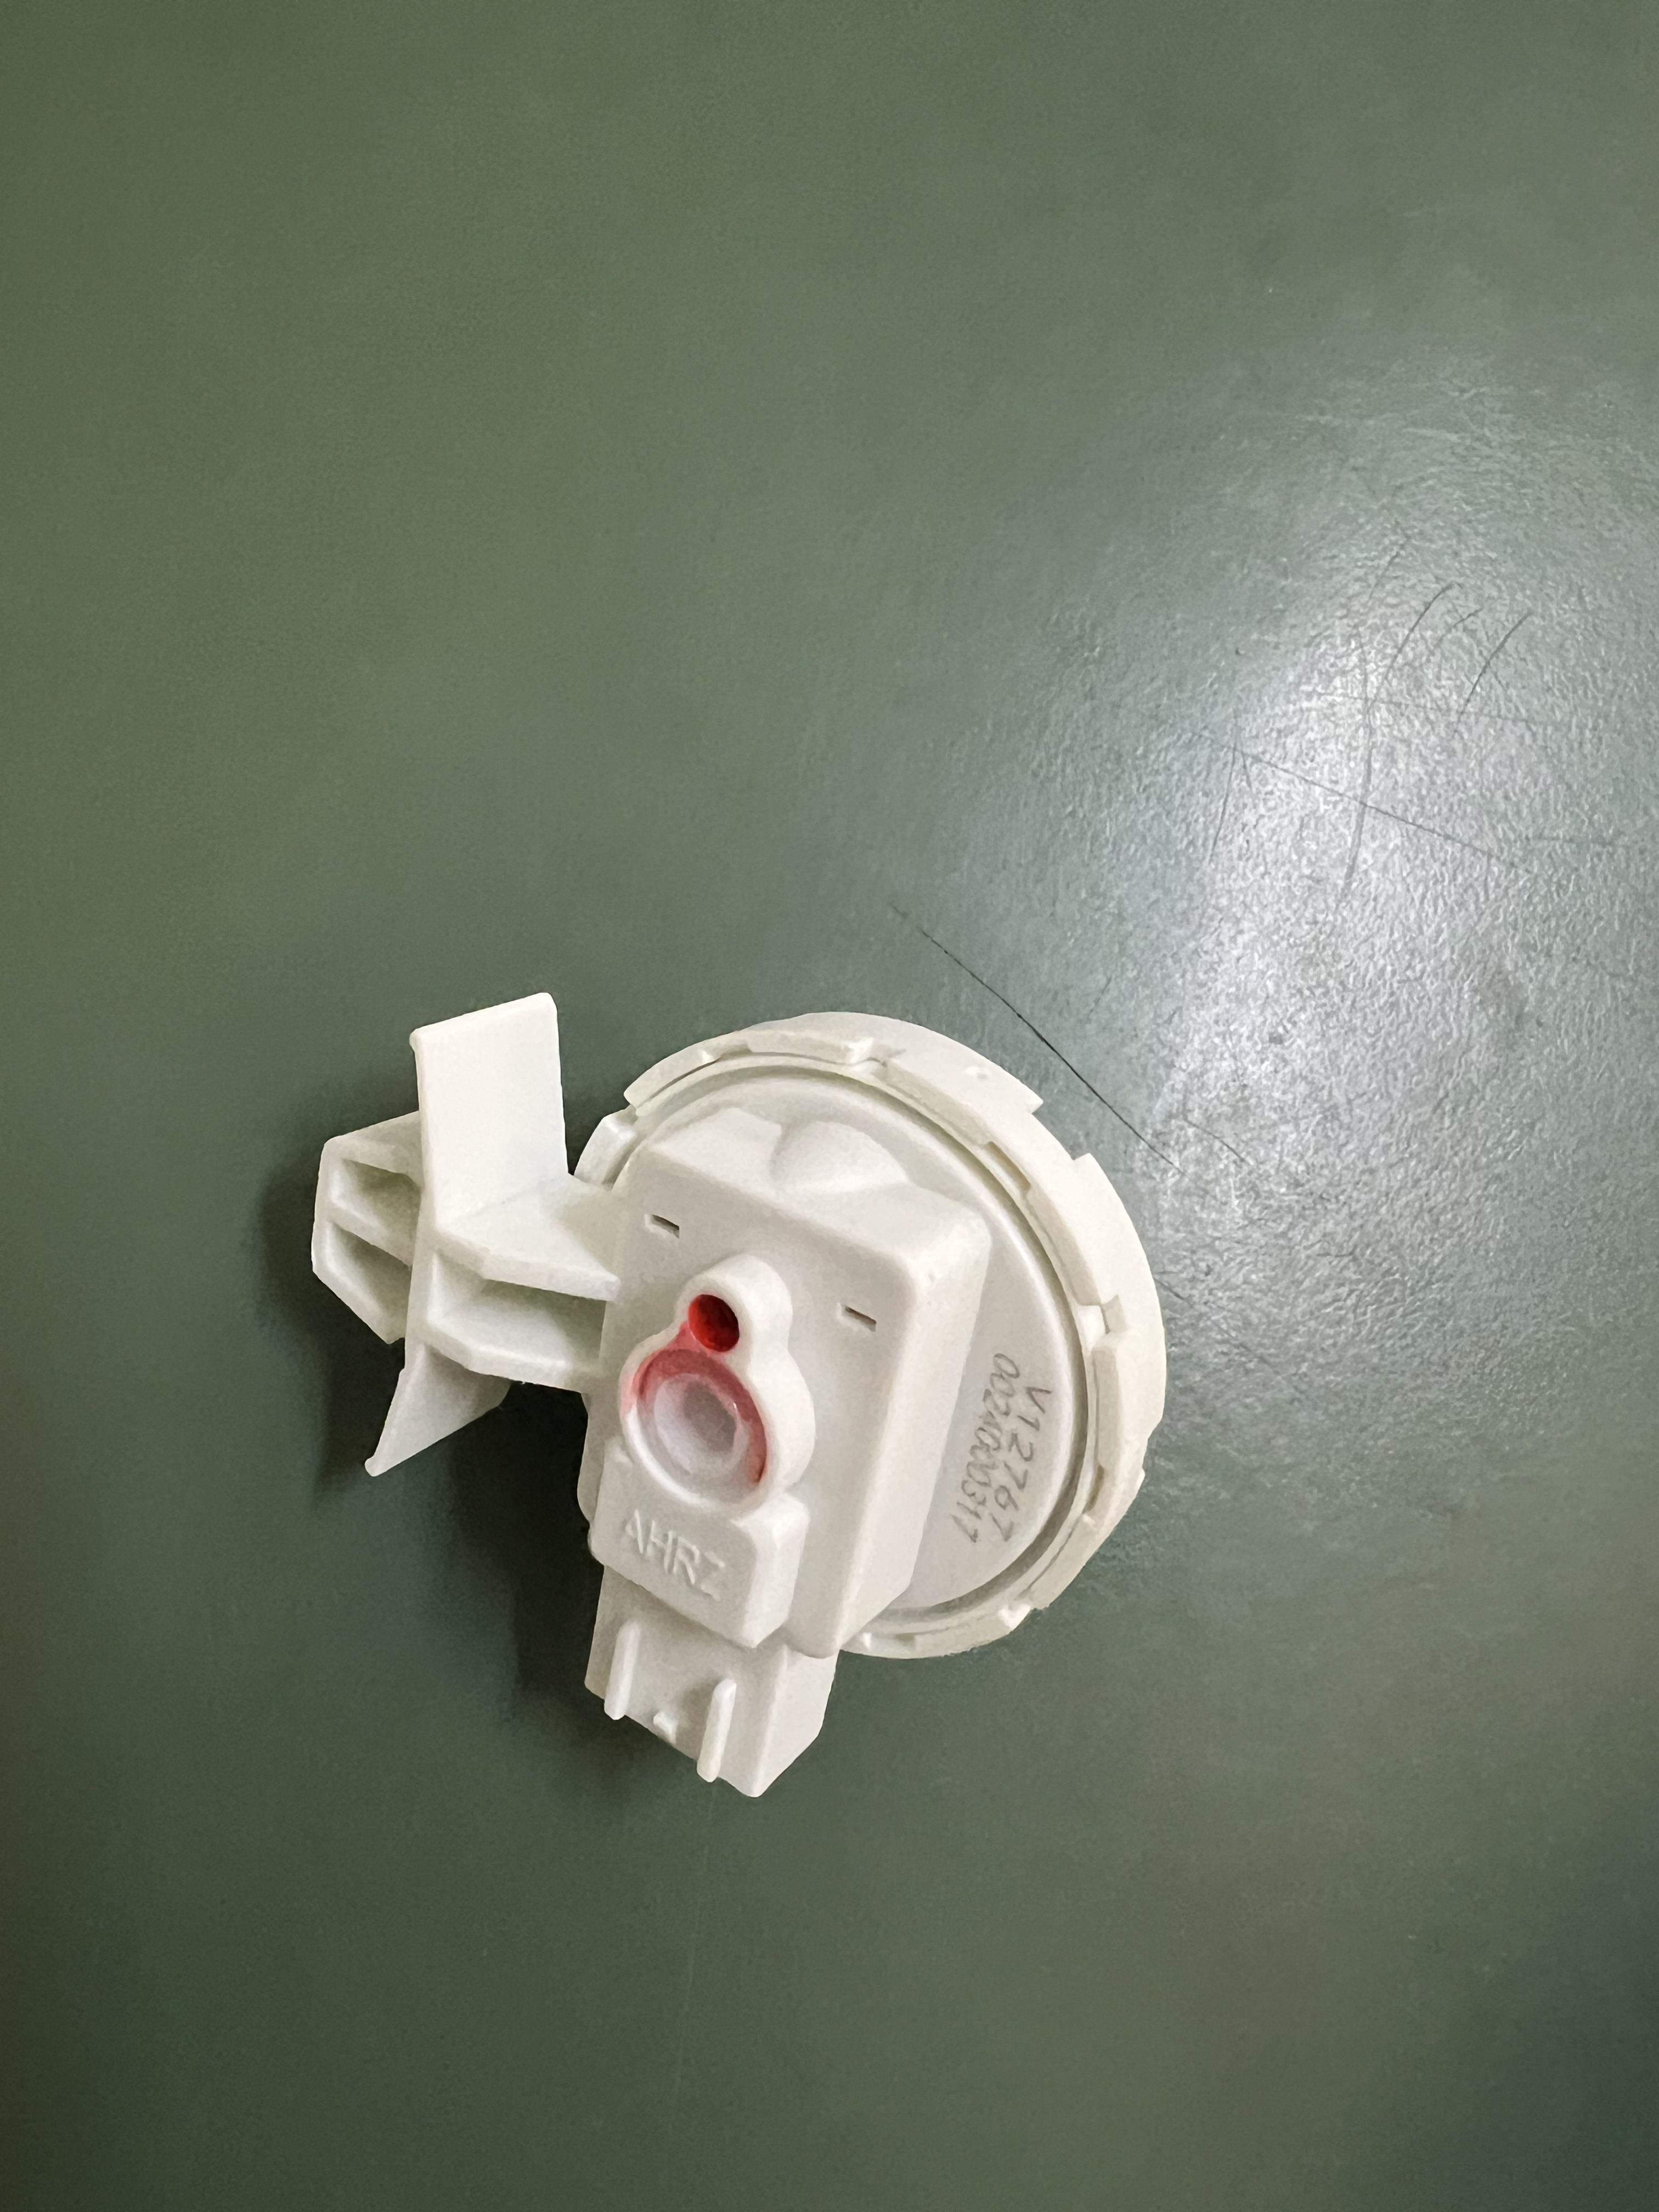pressure_switch_2: (273, 1005, 1176, 1860)
